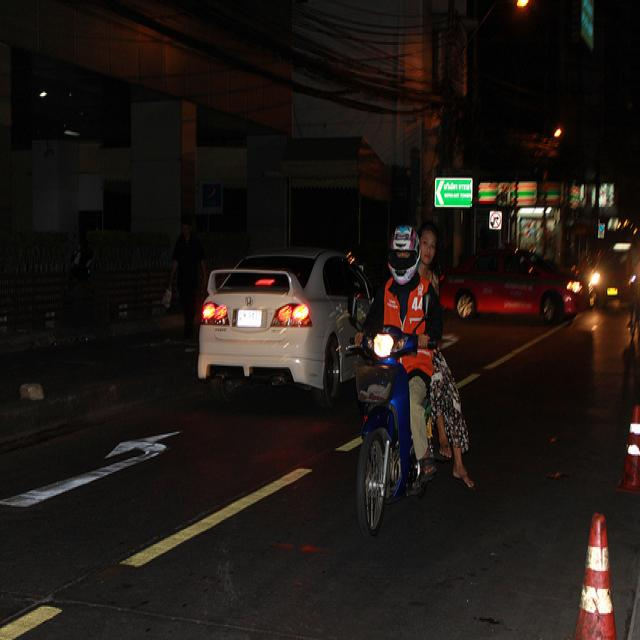motor: (345, 298, 441, 542)
